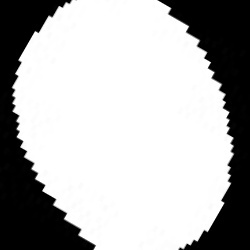spot: (12, 1, 234, 248)
